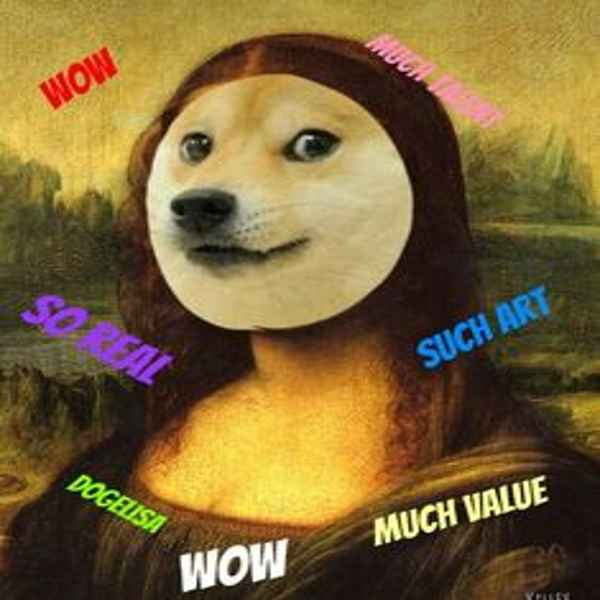doge: (138, 85, 403, 320)
